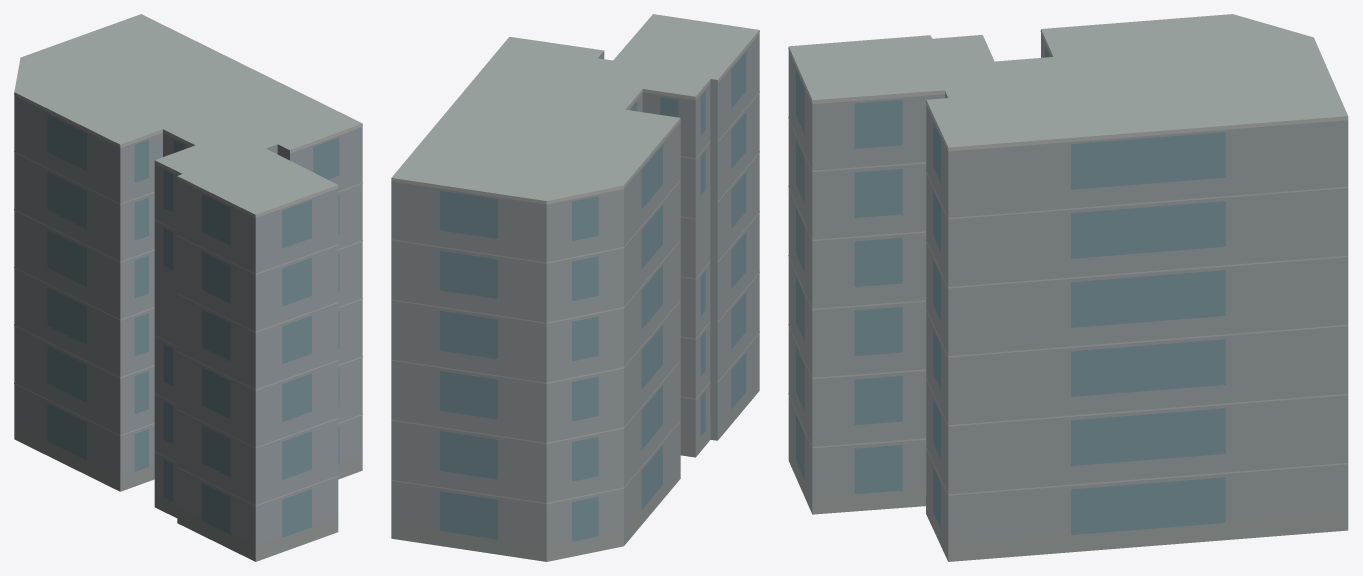
Rendered from survey-upis-32949258.glb.
The picture shows the model from 3 angles, left to right: view 1: azimuth 30°, elevation 25°; view 2: azimuth 150°, elevation 25°; view 3: azimuth 270°, elevation 25°; orthographic projection. The views are drawn at different scales.
Visible parts, largest first — view 1: survey-upis-32949258.tmp; view 2: survey-upis-32949258.tmp; view 3: survey-upis-32949258.tmp.
Part boxes in pixels (left/top/right/bottom): survey-upis-32949258.tmp: left=14, top=14, right=362, bottom=561; survey-upis-32949258.tmp: left=391, top=14, right=759, bottom=561; survey-upis-32949258.tmp: left=788, top=14, right=1348, bottom=561.
Size of the model in its own units: 17.24 by 24.9 by 30.51.
